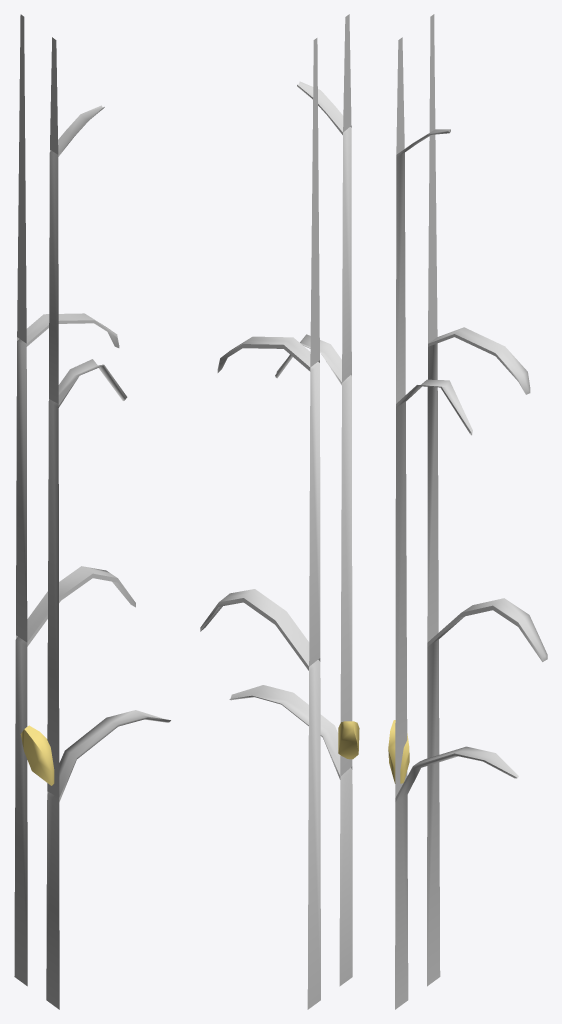
Rendered from Adventure-Mais-Kolben.fbx.
3 views of the same model, side by side, from view 1: azimuth 30°, elevation 25°; view 2: azimuth 150°, elevation 25°; view 3: azimuth 330°, elevation 25° (orthographic).
Parts seen in each view (by area): view 1: Polygon_2, Polygon_3, Polygon; view 2: Polygon_3, Polygon_2, Polygon; view 3: Polygon_3, Polygon_2, Polygon.
Part boxes in pixels (left/top/right/bottom): Polygon_2: left=46, top=37, right=170, bottom=1009; Polygon_3: left=14, top=14, right=135, bottom=986; Polygon: left=20, top=725, right=54, bottom=785; Polygon_3: left=200, top=38, right=320, bottom=1009; Polygon_2: left=229, top=14, right=352, bottom=986; Polygon: left=338, top=721, right=359, bottom=759; Polygon_3: left=427, top=14, right=547, bottom=986; Polygon_2: left=395, top=37, right=518, bottom=1009; Polygon: left=388, top=720, right=409, bottom=783.
Size of the model in its own units: 11.87 by 80.38 by 6.8.
